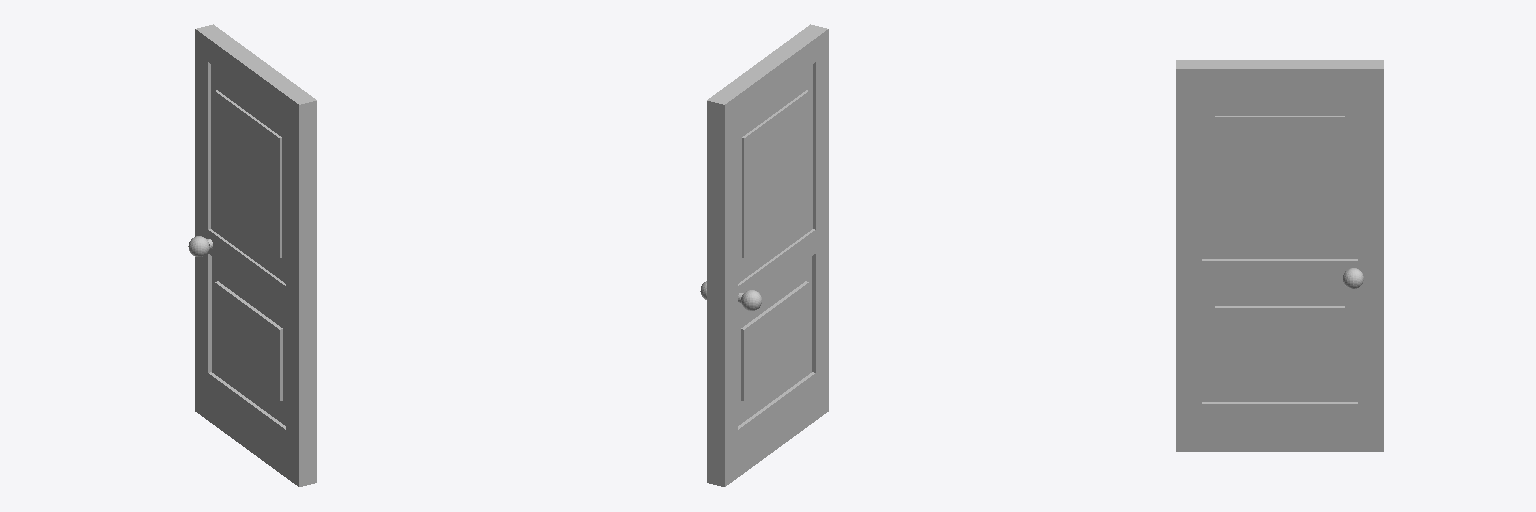
Rendered from door2.obj.
The picture shows the model from 3 angles: view 1: azimuth 30°, elevation 25°; view 2: azimuth 150°, elevation 25°; view 3: azimuth 270°, elevation 25°; orthographic projection.
Visible parts, largest first — view 1: pasted__group3_pasted__pSphere1 group door; view 2: pasted__group3_pasted__pSphere1 group door; view 3: pasted__group3_pasted__pSphere1 group door.
Part boxes in pixels (bbox=[...]): pasted__group3_pasted__pSphere1 group door: bbox=[195, 24, 316, 486]; pasted__group3_pasted__pSphere1 group door: bbox=[707, 24, 828, 486]; pasted__group3_pasted__pSphere1 group door: bbox=[1176, 60, 1383, 451].
Bounding box in the file's own units: 0.3277 × 2.03 × 1.